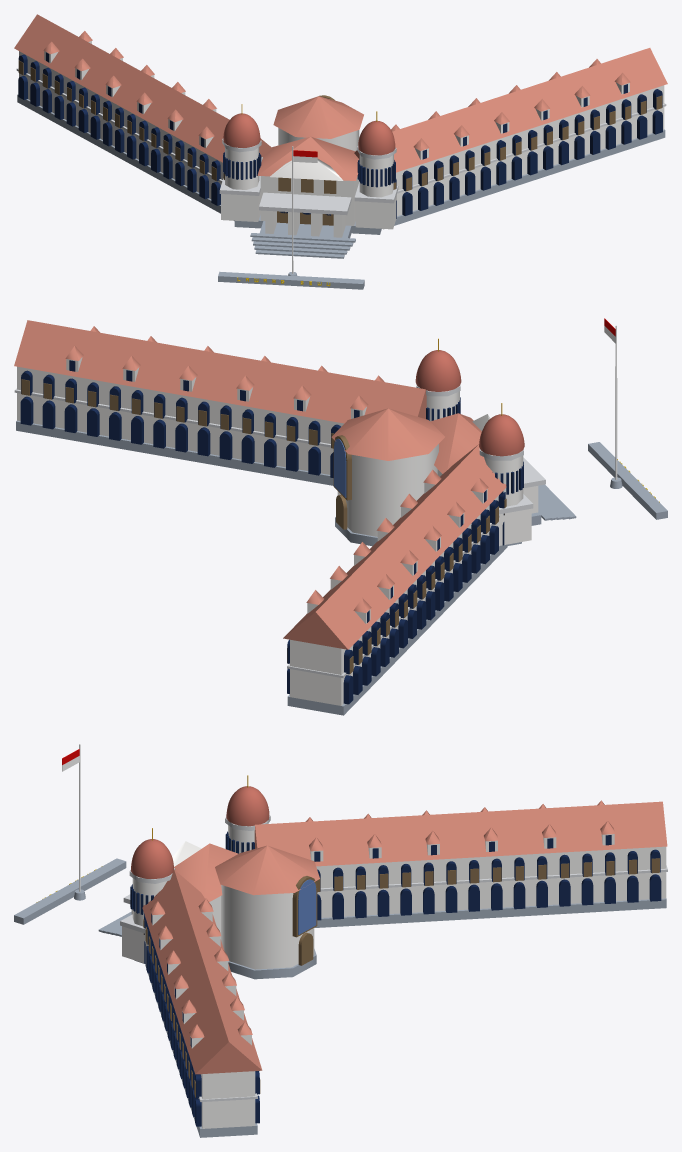
The model's file is lawangsewu.glb.
3 views of the same model, one above another, from view 1: azimuth 30°, elevation 25°; view 2: azimuth 150°, elevation 25°; view 3: azimuth 270°, elevation 25° (orthographic). The views are drawn at different scales.
Bounding box in the file's own units: 53.46 × 14 × 54.02.
